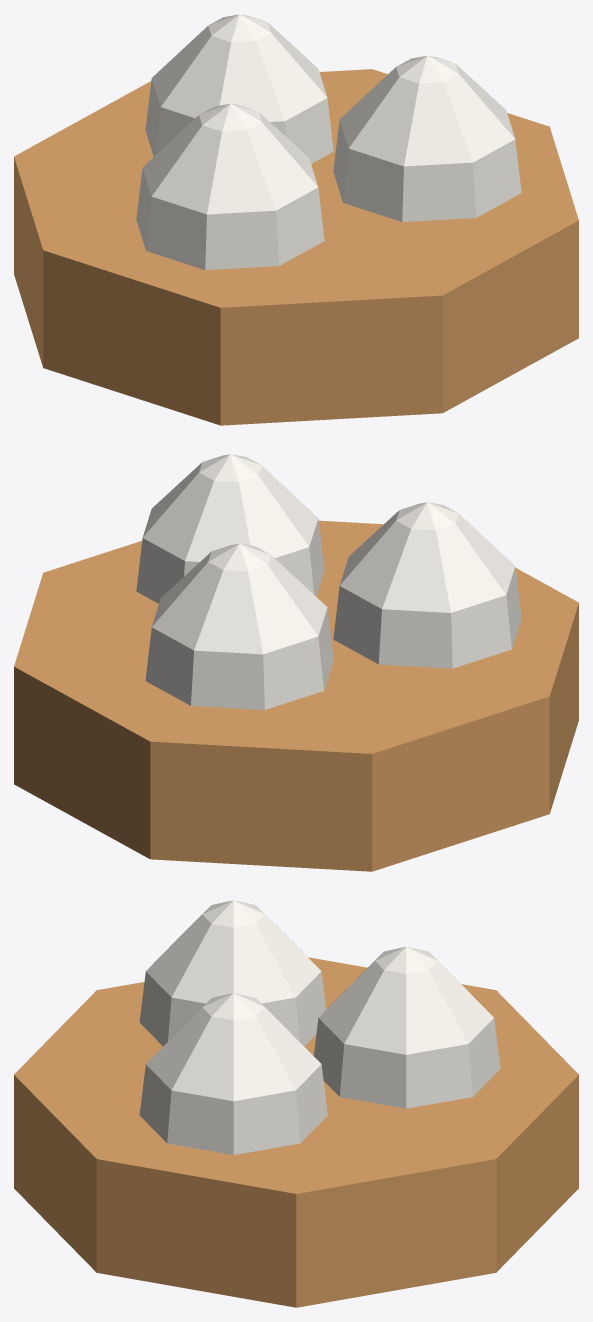
File: Dumplings.fbx
3 views of the same model, one above another, from view 1: azimuth 30°, elevation 25°; view 2: azimuth 150°, elevation 25°; view 3: azimuth 270°, elevation 25° (orthographic). The views are drawn at different scales.
Parts seen in each view (by area): view 1: Dumplings; view 2: Dumplings; view 3: Dumplings.
Boxes of the visible parts, left/top/right/bottom form: Dumplings: left=14, top=14, right=578, bottom=425; Dumplings: left=14, top=454, right=578, bottom=871; Dumplings: left=14, top=900, right=578, bottom=1307.
Bounding box in the file's own units: 1.8 × 0.85 × 1.8.
1 material, 1 textured.
